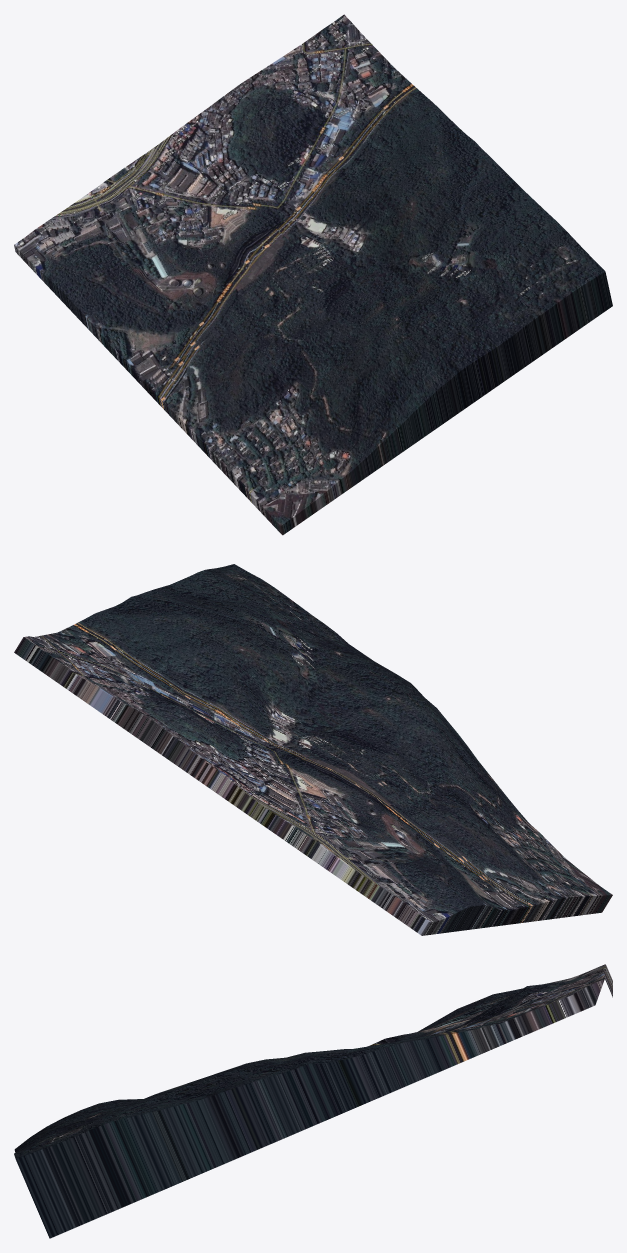
The picture shows the model from 3 angles, top to bottom: view 1: azimuth 30°, elevation 25°; view 2: azimuth 150°, elevation 25°; view 3: azimuth 270°, elevation 25°; orthographic projection. The views are drawn at different scales.
Parts seen in each view (by area): view 1: 1_1_9; view 2: 1_1_9; view 3: 1_1_9.
Part boxes in pixels (bbox=[...]): 1_1_9: bbox=[14, 14, 612, 535]; 1_1_9: bbox=[14, 564, 612, 935]; 1_1_9: bbox=[14, 964, 612, 1238].
Size of the model in its own units: 1236 by 919 by 1190.
Materials: 1 (1 with a texture image).
